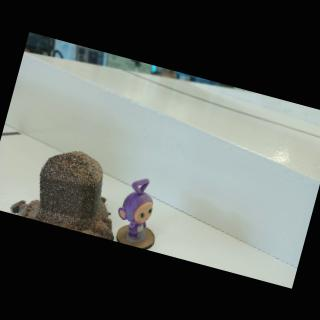teletubby: (118, 178, 152, 237)
